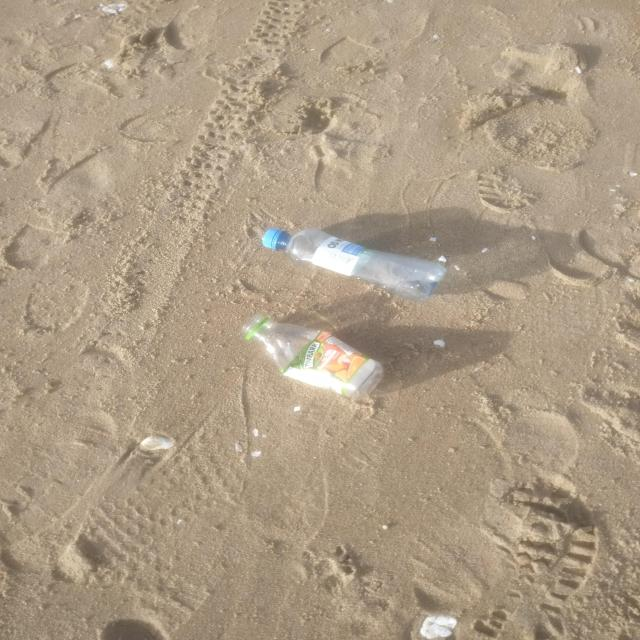litter: (259, 230, 448, 299), (240, 314, 385, 398)
